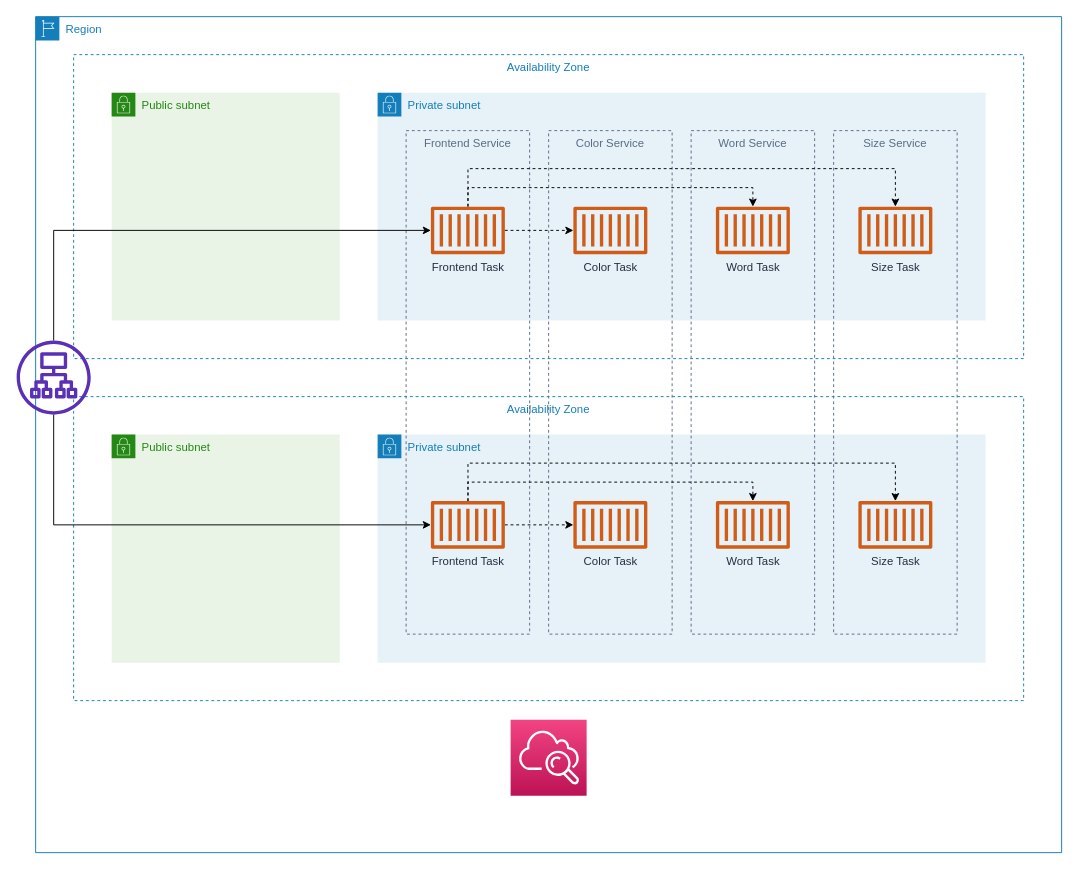
Some shapes in this 1078 by 869 pixel diagram are drawn without their labels. The shapes that lost their labels are listed below. From the top down, each one's centre as x and y in pixels, then its label:
At (x=53, y=377): "ALB".
At (x=548, y=757): "CloudWatch dashboard".
